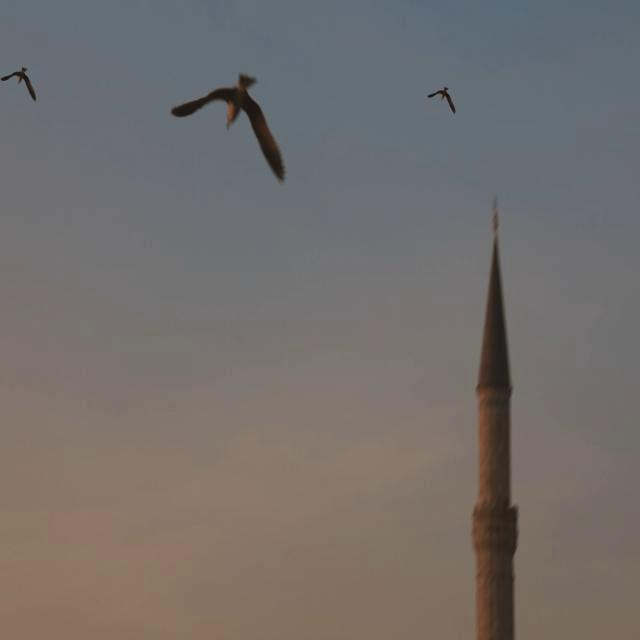bird: (162, 66, 294, 192), (1, 56, 44, 106), (420, 79, 462, 118)
